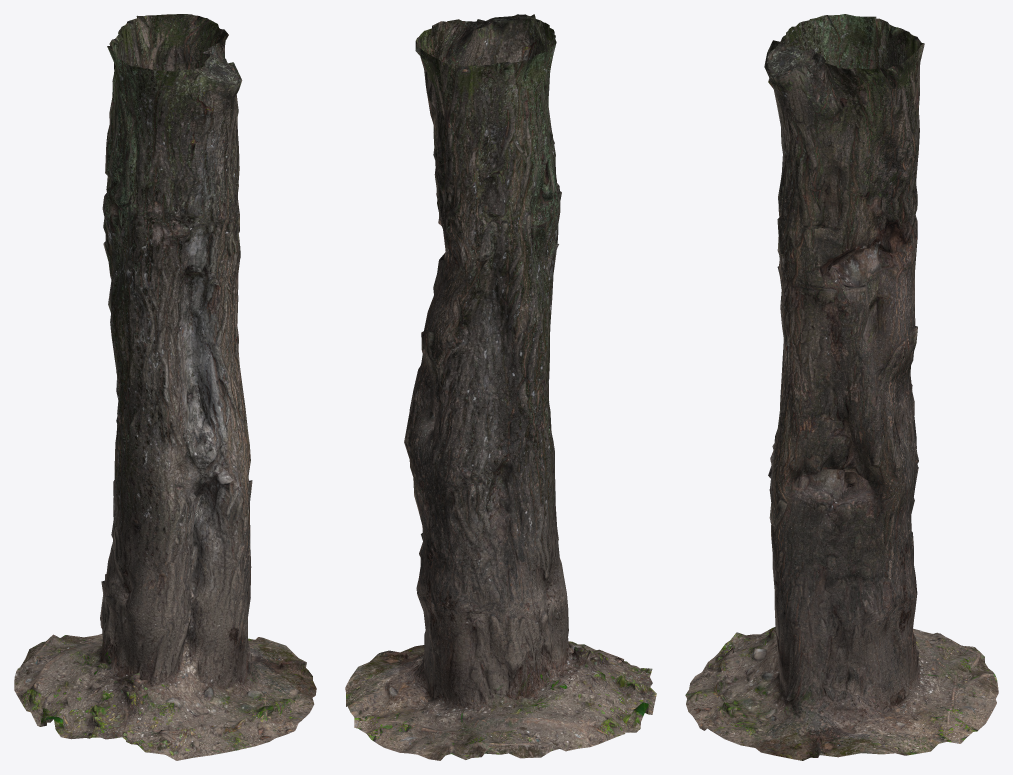
Rendered from PX_Cinnamomum_burmannii_Trunk_01_LOD2.fbx.
The picture shows the model from 3 angles, left to right: view 1: azimuth 30°, elevation 25°; view 2: azimuth 150°, elevation 25°; view 3: azimuth 270°, elevation 25°; orthographic projection. The views are drawn at different scales.
Parts seen in each view (by area): view 1: PX_Cinnamomum_burmannii_Trunk_01_LOD2; view 2: PX_Cinnamomum_burmannii_Trunk_01_LOD2; view 3: PX_Cinnamomum_burmannii_Trunk_01_LOD2.
Boxes of the visible parts, box(x1,y1,x2,y2) form: PX_Cinnamomum_burmannii_Trunk_01_LOD2: box(14, 14, 316, 760); PX_Cinnamomum_burmannii_Trunk_01_LOD2: box(345, 14, 656, 760); PX_Cinnamomum_burmannii_Trunk_01_LOD2: box(685, 14, 998, 760).
Size of the model in its own units: 99.2 by 237 by 101.
